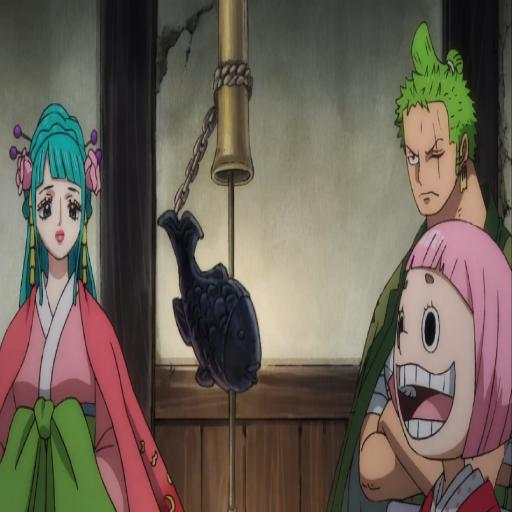Zoro: (368, 3, 501, 235)
